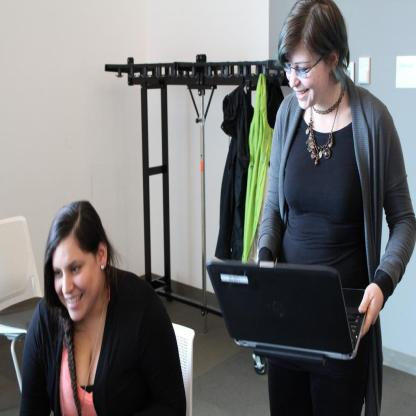board: (205, 260, 368, 360)
